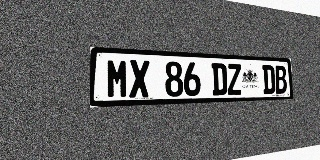6: (183, 62, 201, 96)
8: (165, 61, 183, 97)
B: (274, 65, 287, 94)
D: (211, 63, 227, 95), (262, 65, 275, 94)
M: (106, 59, 128, 98)
X: (129, 60, 150, 98)
Z: (227, 64, 242, 95)
